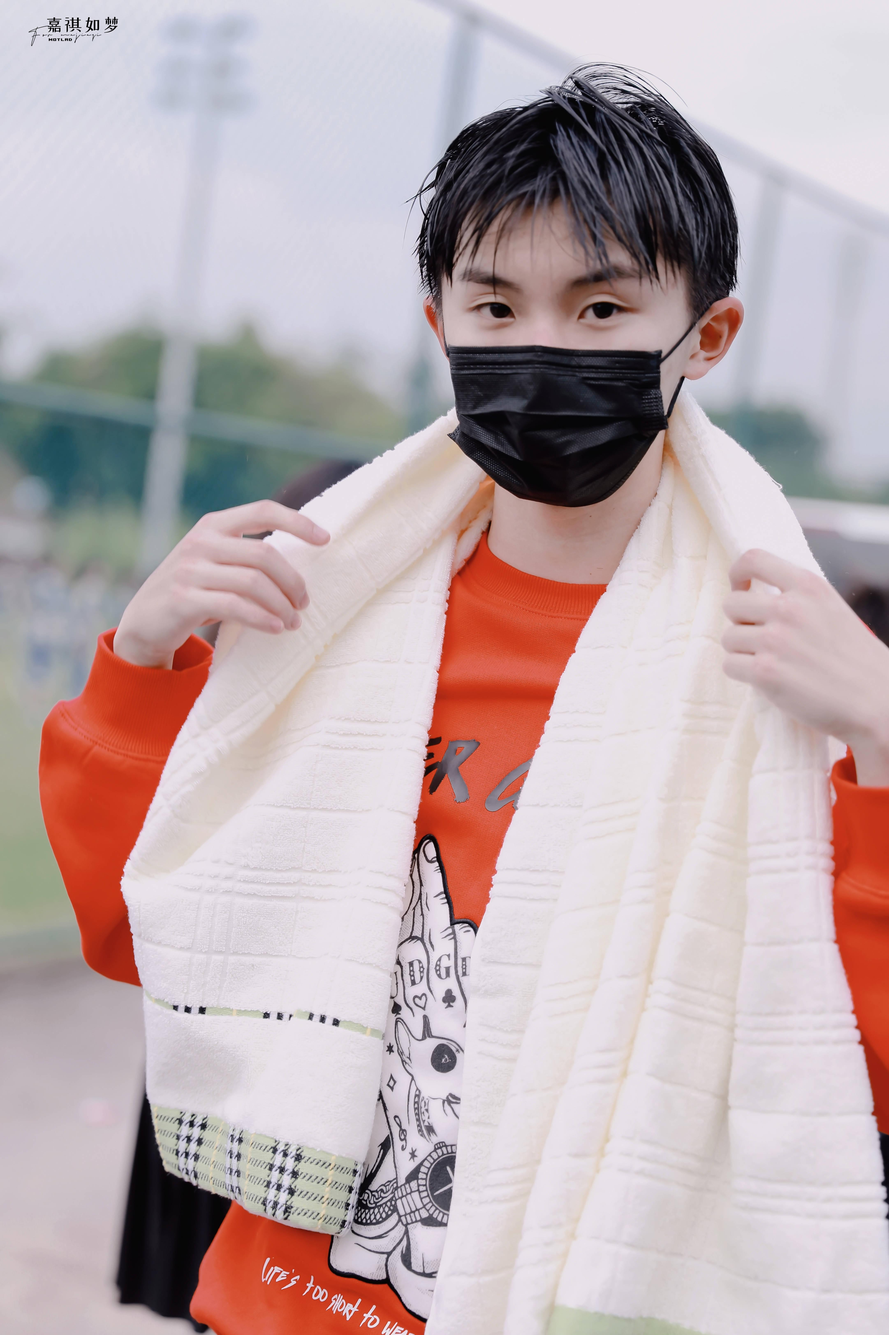OK: (444, 246, 672, 507)
